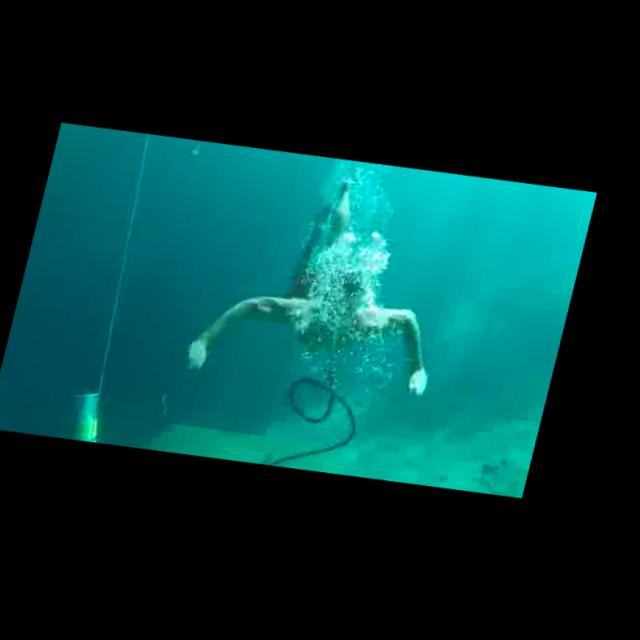human: (179, 156, 488, 420)
